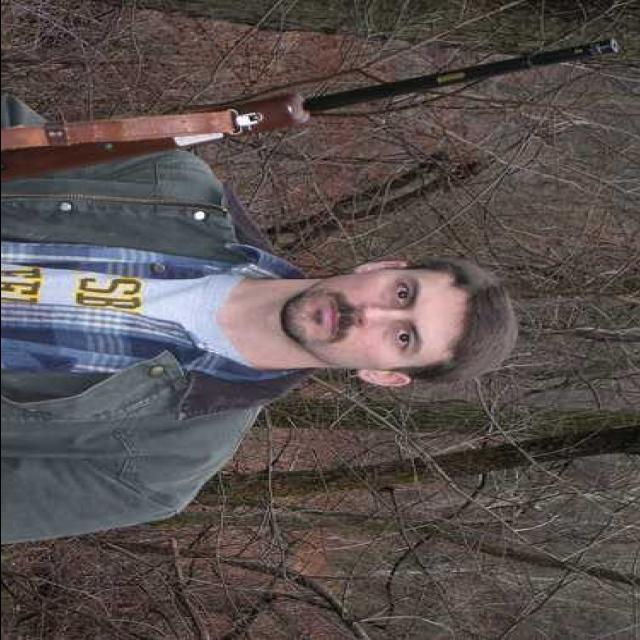heavyweapon: (1, 28, 621, 194)
